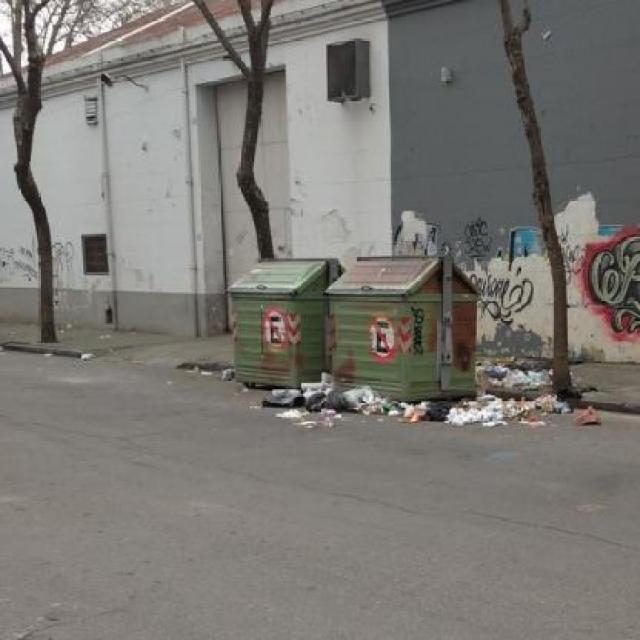garbage: (248, 371, 600, 444), (477, 351, 573, 396), (192, 357, 244, 400)
